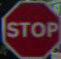Stop: (3, 3, 59, 51)
